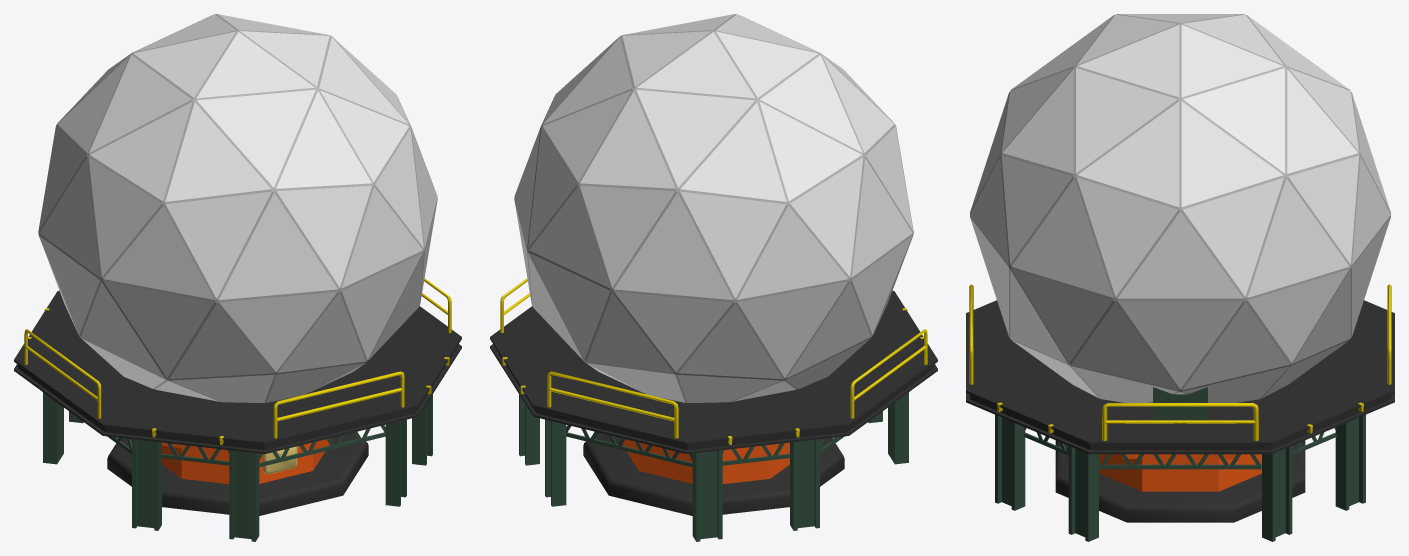
The model's file is Radome.fbx.
3 views of the same model, side by side, from view 1: azimuth 30°, elevation 25°; view 2: azimuth 150°, elevation 25°; view 3: azimuth 270°, elevation 25° (orthographic). The views are drawn at different scales.
Parts seen in each view (by area): view 1: Icosphere.002; view 2: Icosphere.002; view 3: Icosphere.002.
Boxes of the visible parts, x1,y1,x2,y2 form: Icosphere.002: (14,14,461,541); Icosphere.002: (490,14,937,541); Icosphere.002: (966,14,1394,541).
Bounding box in the file's own units: 1080 × 1240 × 1080.
